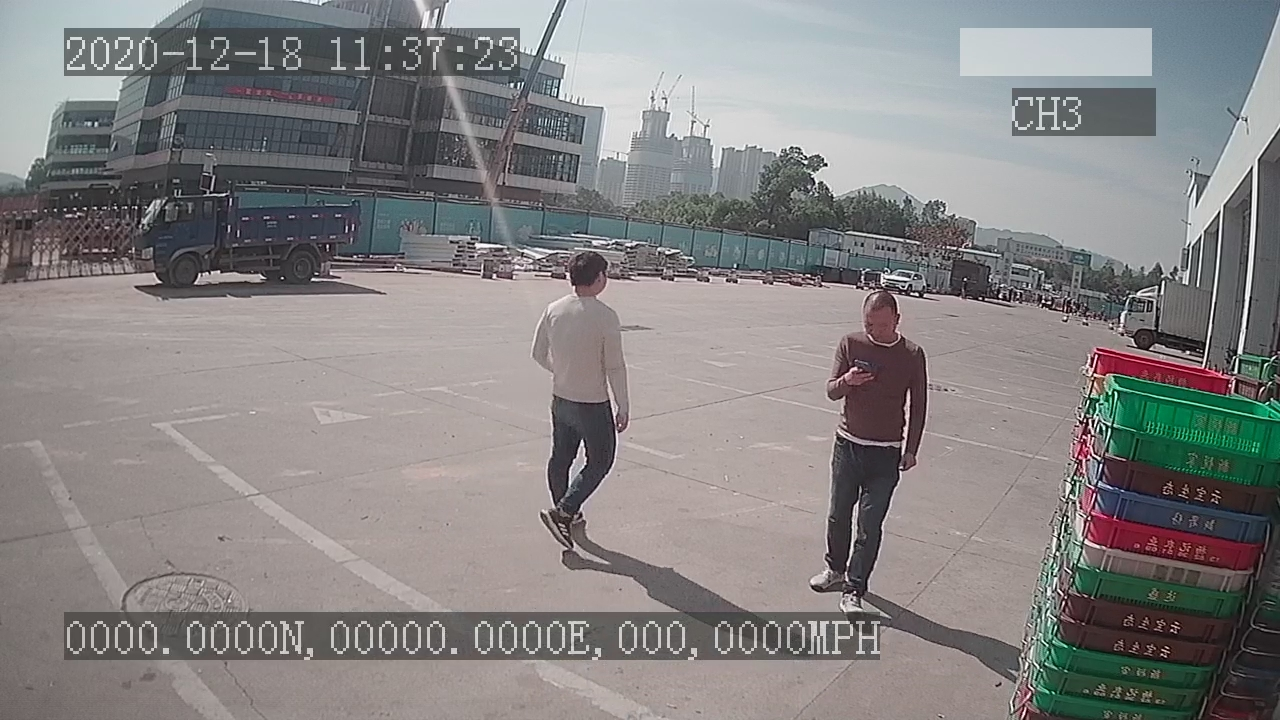person: (527, 246, 636, 546)
